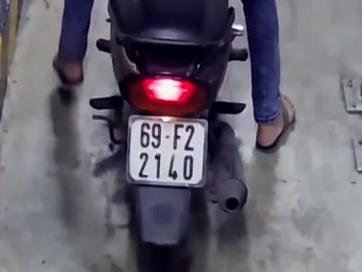num_plate: (127, 114, 208, 190)
